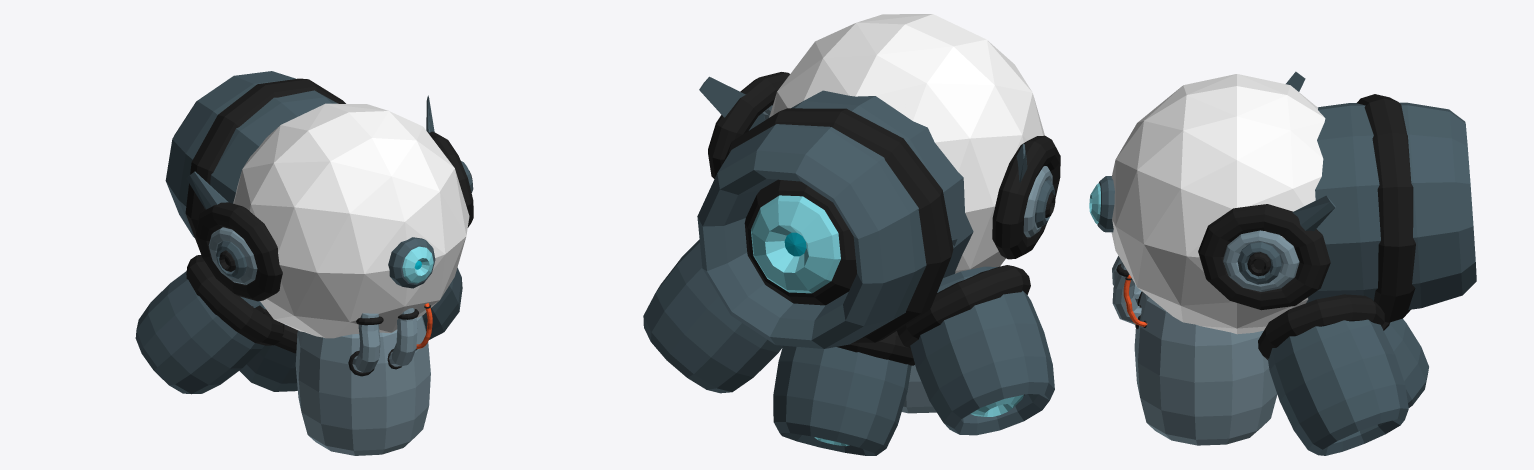
File: DroneCollision.FBX
The picture shows the model from 3 angles, left to right: view 1: azimuth 30°, elevation 25°; view 2: azimuth 150°, elevation 25°; view 3: azimuth 270°, elevation 25°; orthographic projection. The views are drawn at different scales.
Parts seen in each view (by area): view 1: Drone; view 2: Drone; view 3: Drone.
Boxes of the visible parts, x1,y1,x2,y2 form: Drone: (135,71,473,455); Drone: (643,14,1060,455); Drone: (1089,71,1476,455).
Size of the model in its own units: 2470 by 1756 by 2011.
